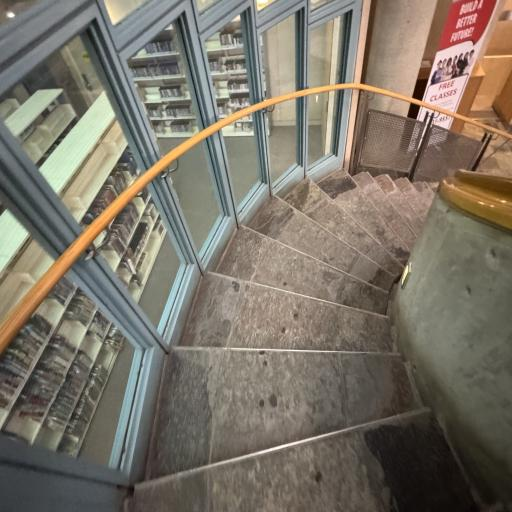Stairs: (132, 170, 475, 512), (133, 409, 475, 512)
